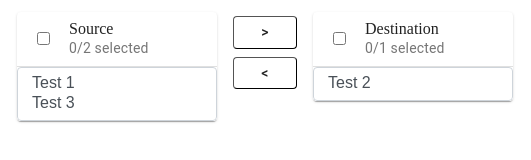
Scenario: Testing OnClick Events › Testing Transfer › transfer some options to right when right have some selection already
The width and height of the screenshot is (531, 160).
Select "Test 2" in the dropdown with test id "select-multiple" below "Destination" at [413, 84], box [313,67,513,101]
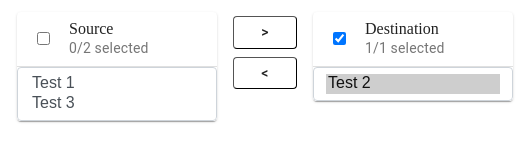
Expected: the text "0/2 selected" is shown, [69,40,148,56]
Result: the text "1/1 selected" is shown at [365,40,444,56]
Select "Test 3" in the dropdown with test id "select-multiple" below "Source" at [117, 94], box [17,67,217,121]
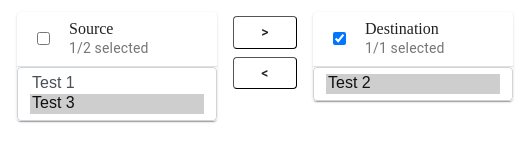
Result: the text "1/2 selected" is shown at [69,40,148,56]
Click the button ">".
click(265, 32)  # box [233,16,297,48]
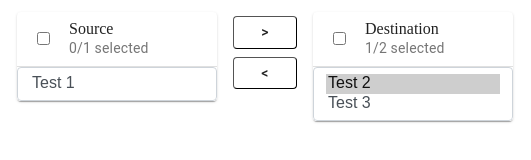
Result: the text "0/1 selected" is shown at [69,40,148,56]
Result: the text "1/2 selected" is shown at [365,40,444,56]
